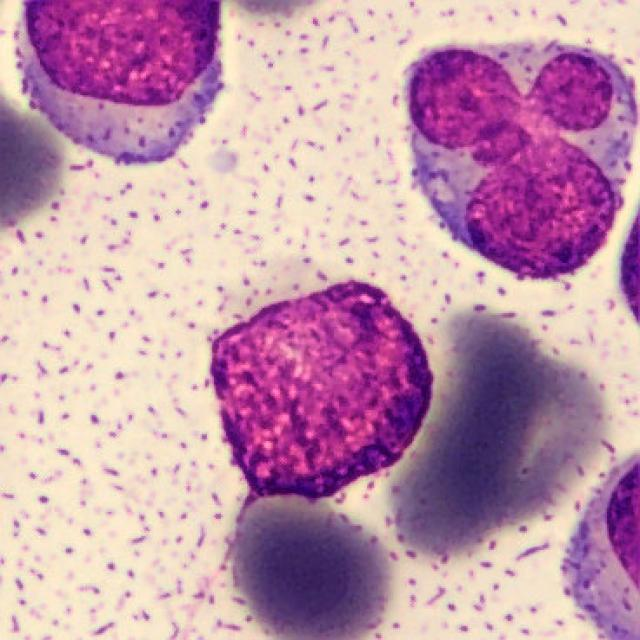Mieloblasto: (400, 40, 638, 280), (14, 0, 224, 168)
Restos celulares: (207, 282, 435, 502)
